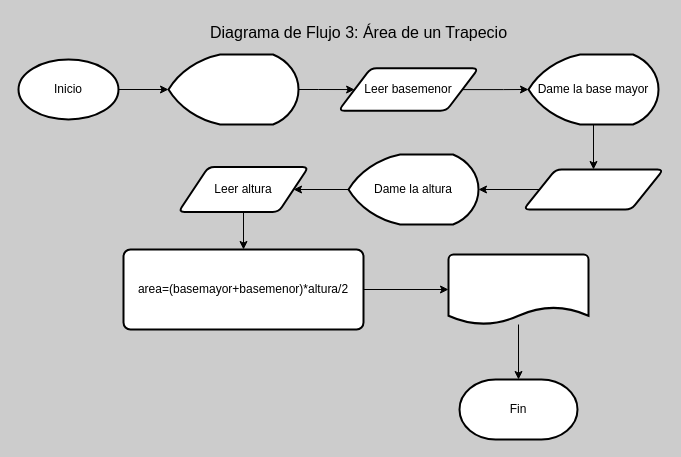
Some shapes in this 681 by 457 pixel diagram are drawn without their labels. Here are the shapes that lost their labels. From the top down, the centre of each, then its label:
the point at 233,89: Dame la base menor
the point at 593,189: Leer basemayor
the point at 518,289: Mostrar el area
